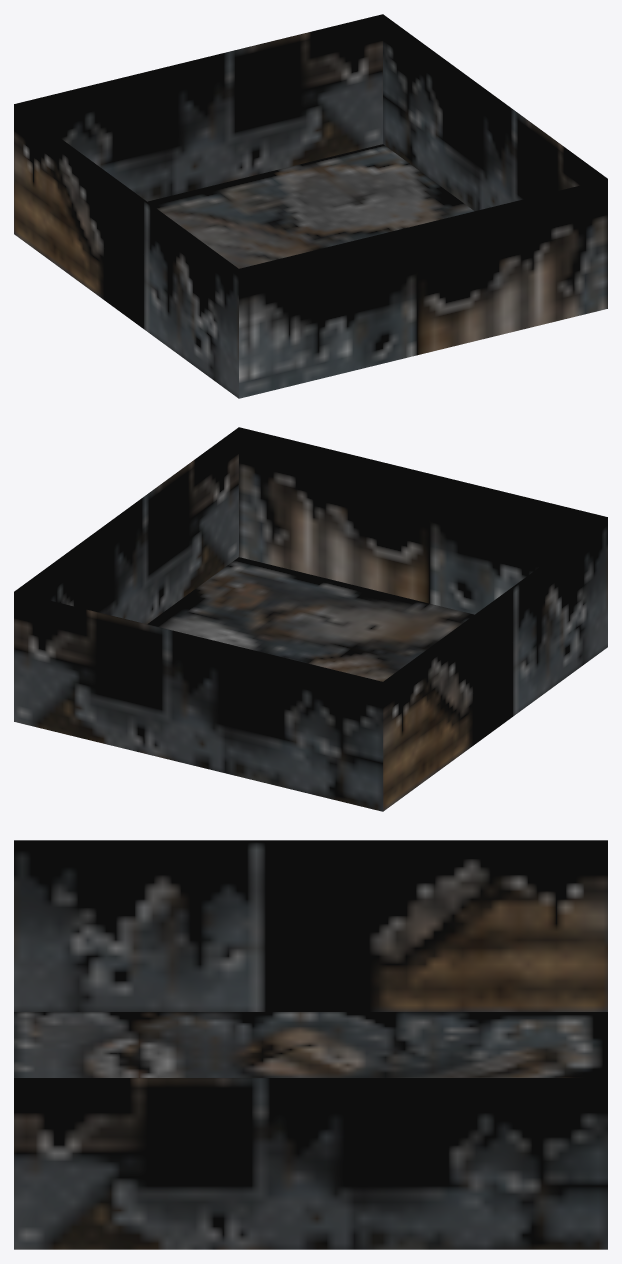
File: crashshanty3_dam.glb
3 views of the same model, one above another, from view 1: azimuth 30°, elevation 25°; view 2: azimuth 150°, elevation 25°; view 3: azimuth 270°, elevation 25° (orthographic). The views are drawn at different scales.
Visible parts, largest first — view 1: CrashShanty3; view 2: CrashShanty3; view 3: CrashShanty3.
Part boxes in pixels (x1=…): CrashShanty3: x1=14, y1=14, x2=607, y2=398; CrashShanty3: x1=14, y1=427, x2=607, y2=811; CrashShanty3: x1=14, y1=840, x2=607, y2=1249.
Size of the model in its own units: 4.85 by 1.63 by 5.13.
Materials: 1 (1 with a texture image).
